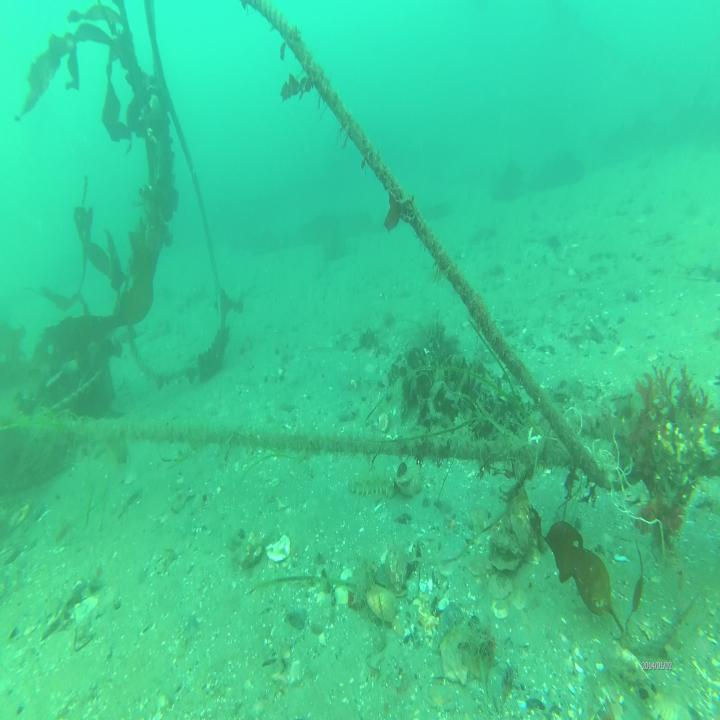holothurian: (348, 468, 396, 500)
scallop: (366, 580, 401, 629), (484, 563, 516, 599)
